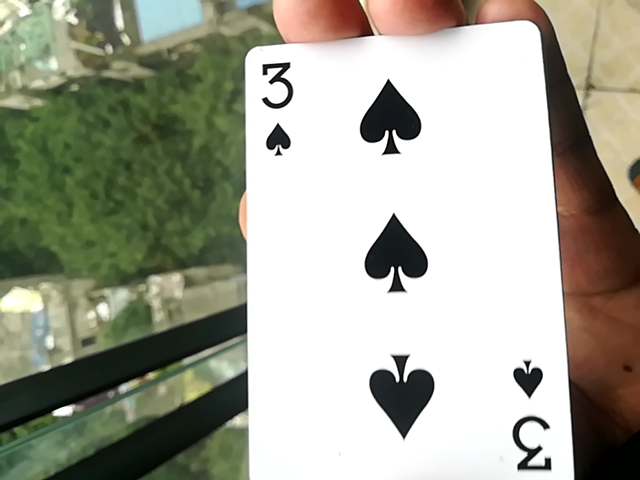ht 3: (228, 33, 580, 480)
